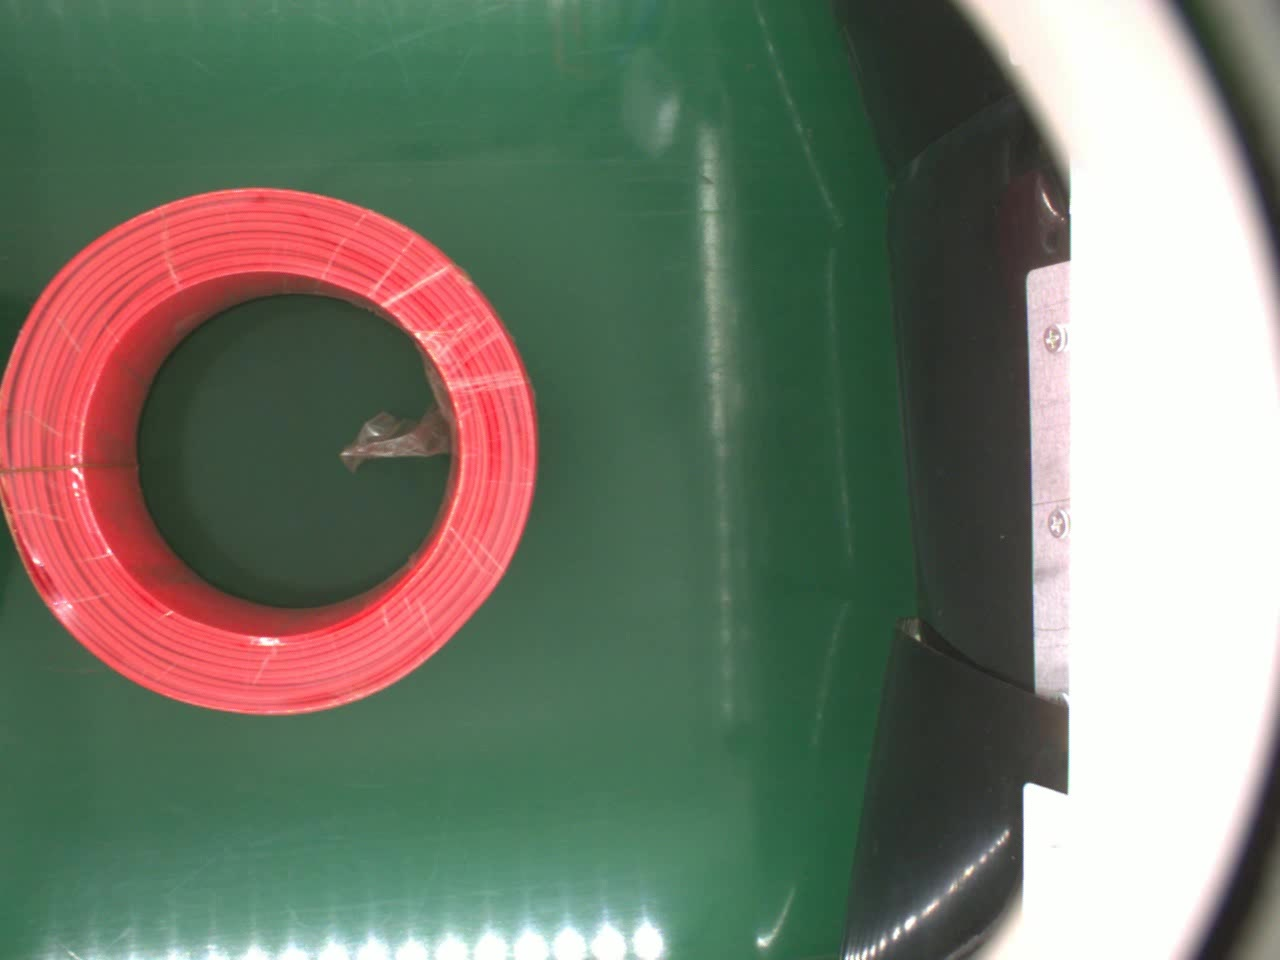red: (3, 183, 544, 717)
